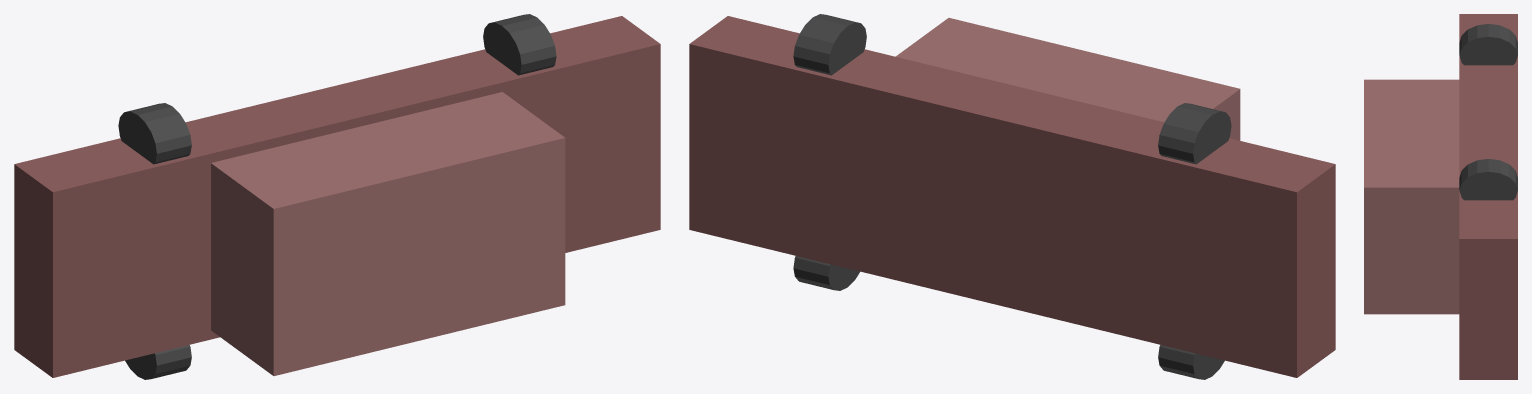
File: curated_coupe.glb
3 renders of one model, left to right at view 1: azimuth 30°, elevation 25°; view 2: azimuth 150°, elevation 25°; view 3: azimuth 270°, elevation 25°, orthographic. The views are drawn at different scales.
Parts seen in each view (by area): view 1: geometry_0; view 2: geometry_0; view 3: geometry_0.
Boxes of the visible parts, x1=… form: geometry_0: x1=14, y1=14, x2=660, y2=379; geometry_0: x1=689, y1=14, x2=1335, y2=379; geometry_0: x1=1364, y1=14, x2=1517, y2=379.
Bounding box in the file's own units: 4.5 × 1.85 × 1.3.
